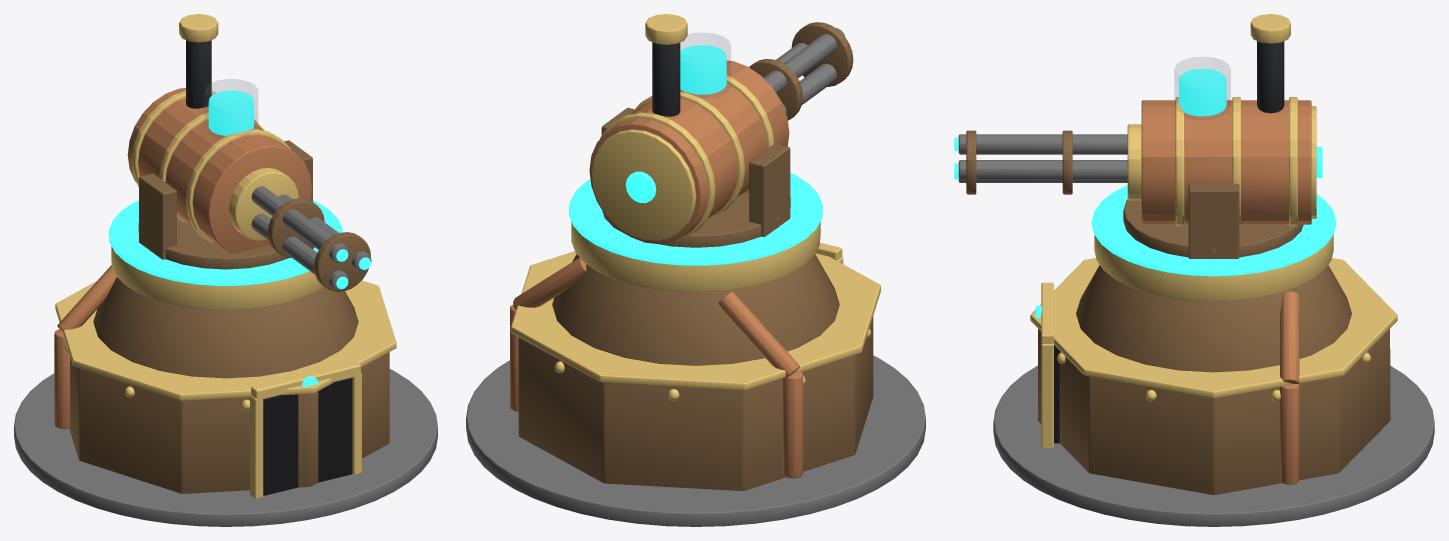
The model's file is GooGun_T1_Pepperbox.glb.
3 renders of one model, left to right at view 1: azimuth 30°, elevation 25°; view 2: azimuth 150°, elevation 25°; view 3: azimuth 270°, elevation 25°, orthographic. The views are drawn at different scales.
Visible parts, largest first — view 1: GooGun_T1_Pepperbox_Base, GooGun_T1_Pepperbox_Turret; view 2: GooGun_T1_Pepperbox_Base, GooGun_T1_Pepperbox_Turret; view 3: GooGun_T1_Pepperbox_Base, GooGun_T1_Pepperbox_Turret.
Part boxes in pixels (x1=…): GooGun_T1_Pepperbox_Base: x1=14, y1=200, x2=437, y2=526; GooGun_T1_Pepperbox_Turret: x1=127, y1=14, x2=371, y2=291; GooGun_T1_Pepperbox_Base: x1=466, y1=173, x2=925, y2=526; GooGun_T1_Pepperbox_Turret: x1=589, y1=14, x2=853, y2=247; GooGun_T1_Pepperbox_Base: x1=993, y1=185, x2=1434, y2=526; GooGun_T1_Pepperbox_Turret: x1=954, y1=14, x2=1322, y2=258.
Size of the model in its own units: 3.5 by 3.61 by 3.81.
